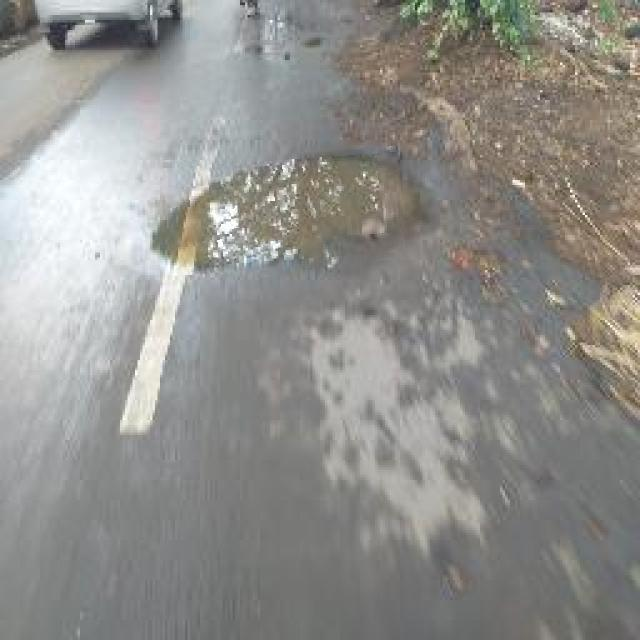puddle: (165, 152, 405, 274)
